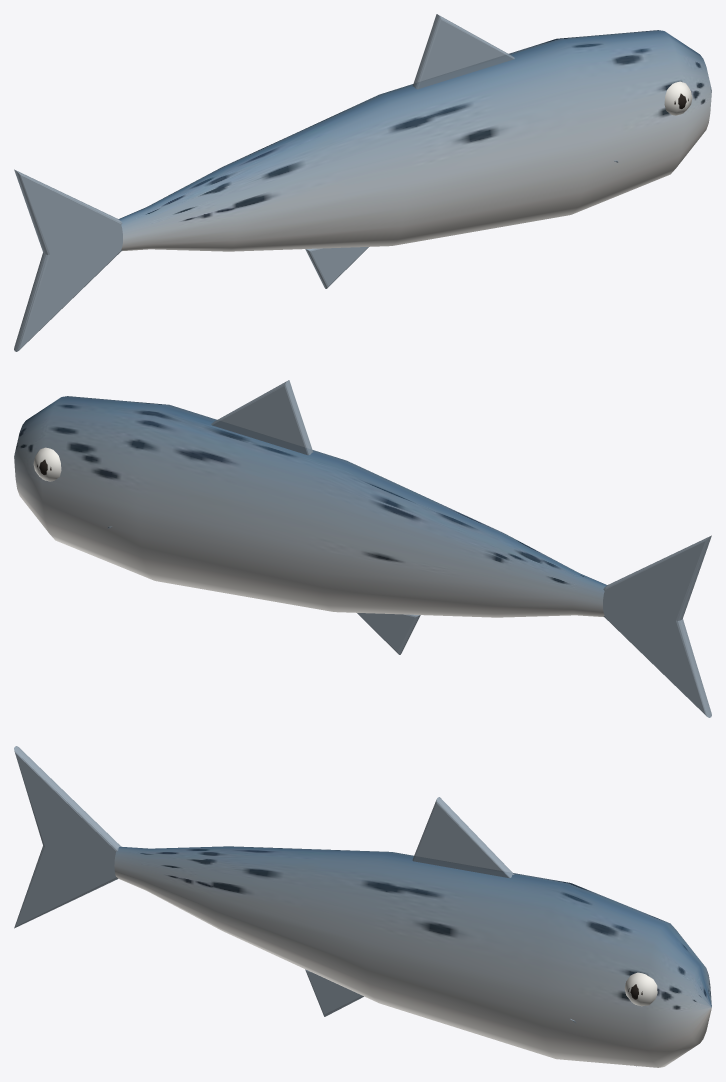
File: salmon.glb
3 views of the same model, one above another, from view 1: azimuth 30°, elevation 25°; view 2: azimuth 150°, elevation 25°; view 3: azimuth 330°, elevation 25° (orthographic).
Parts seen in each view (by area): view 1: fish; view 2: fish; view 3: fish.
Boxes of the visible parts, left/top/right/bottom form: fish: left=14, top=14, right=711, bottom=351; fish: left=14, top=380, right=711, bottom=717; fish: left=14, top=746, right=711, bottom=1067.
Bounding box in the file's own units: 0.7283 × 0.2463 × 0.0903.
Materials: 4 (1 with a texture image).
